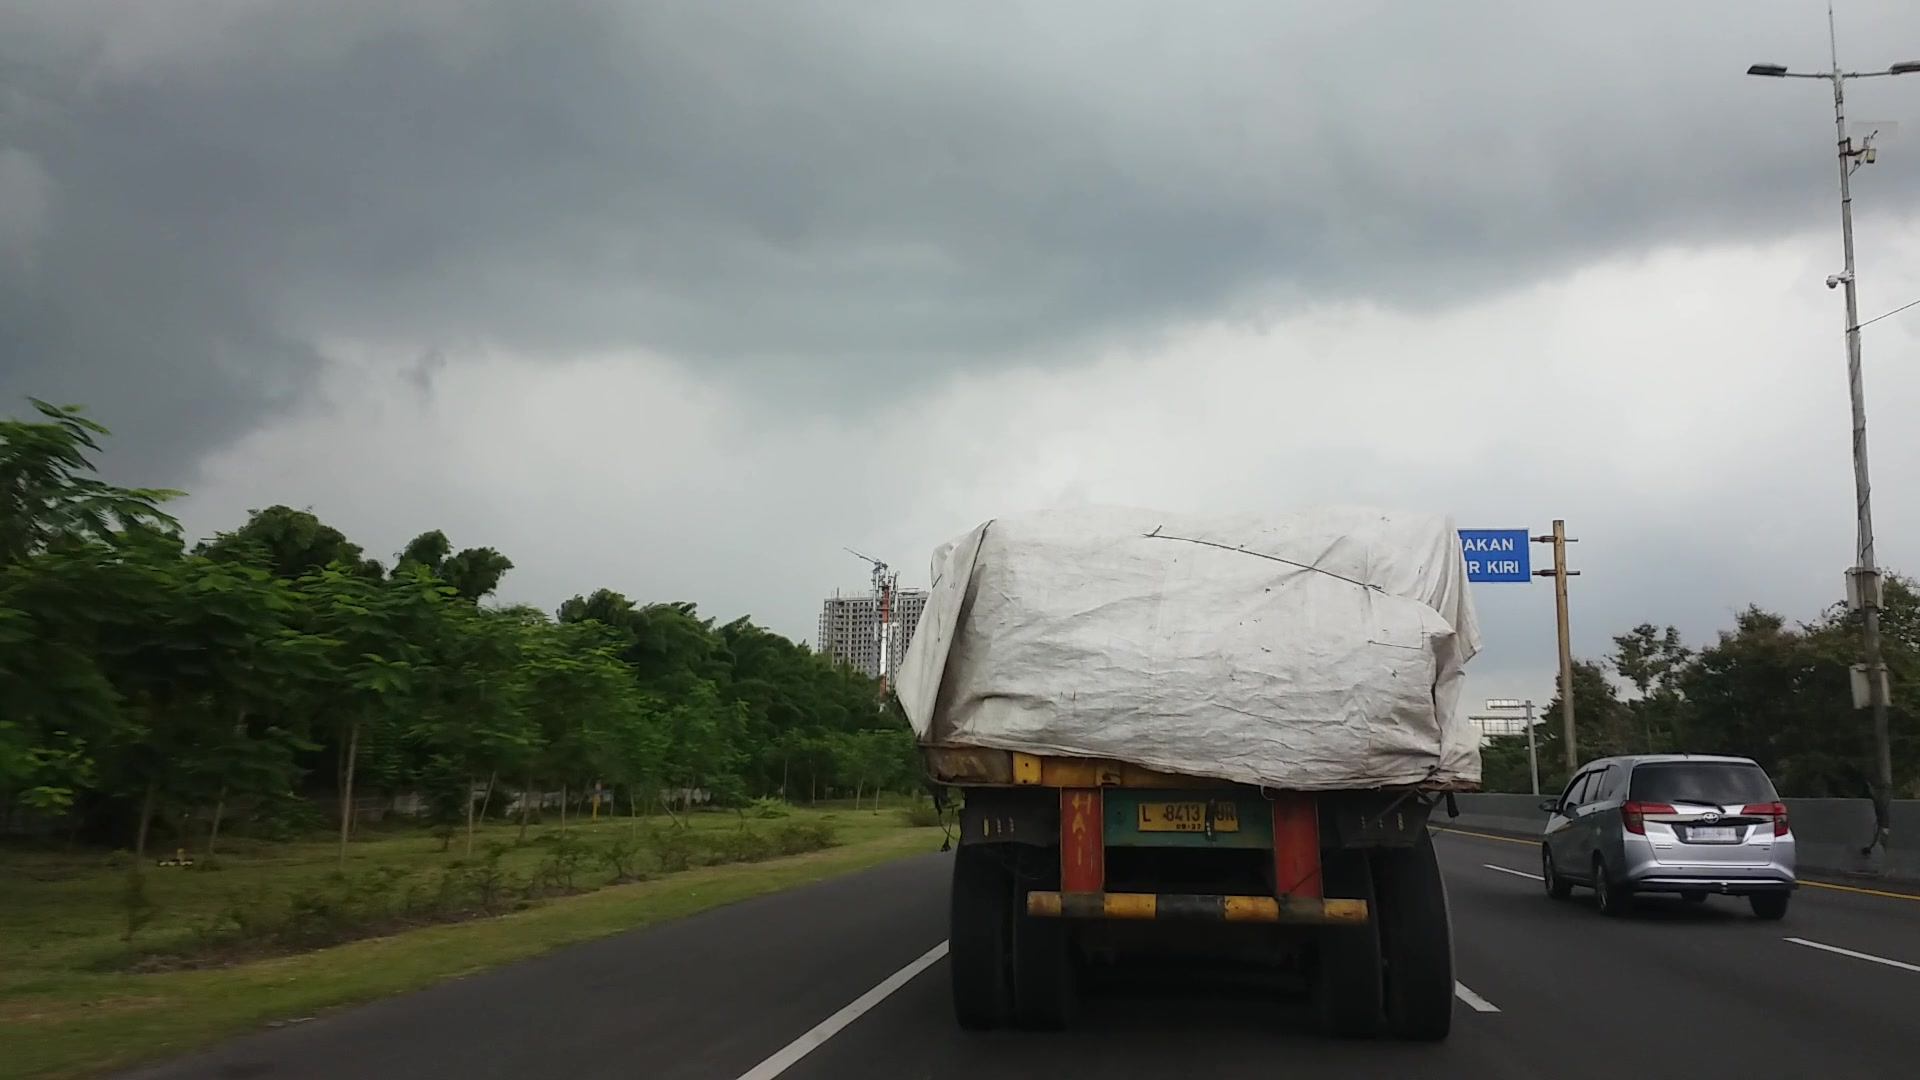plate_positive: (1137, 800, 1240, 833)
